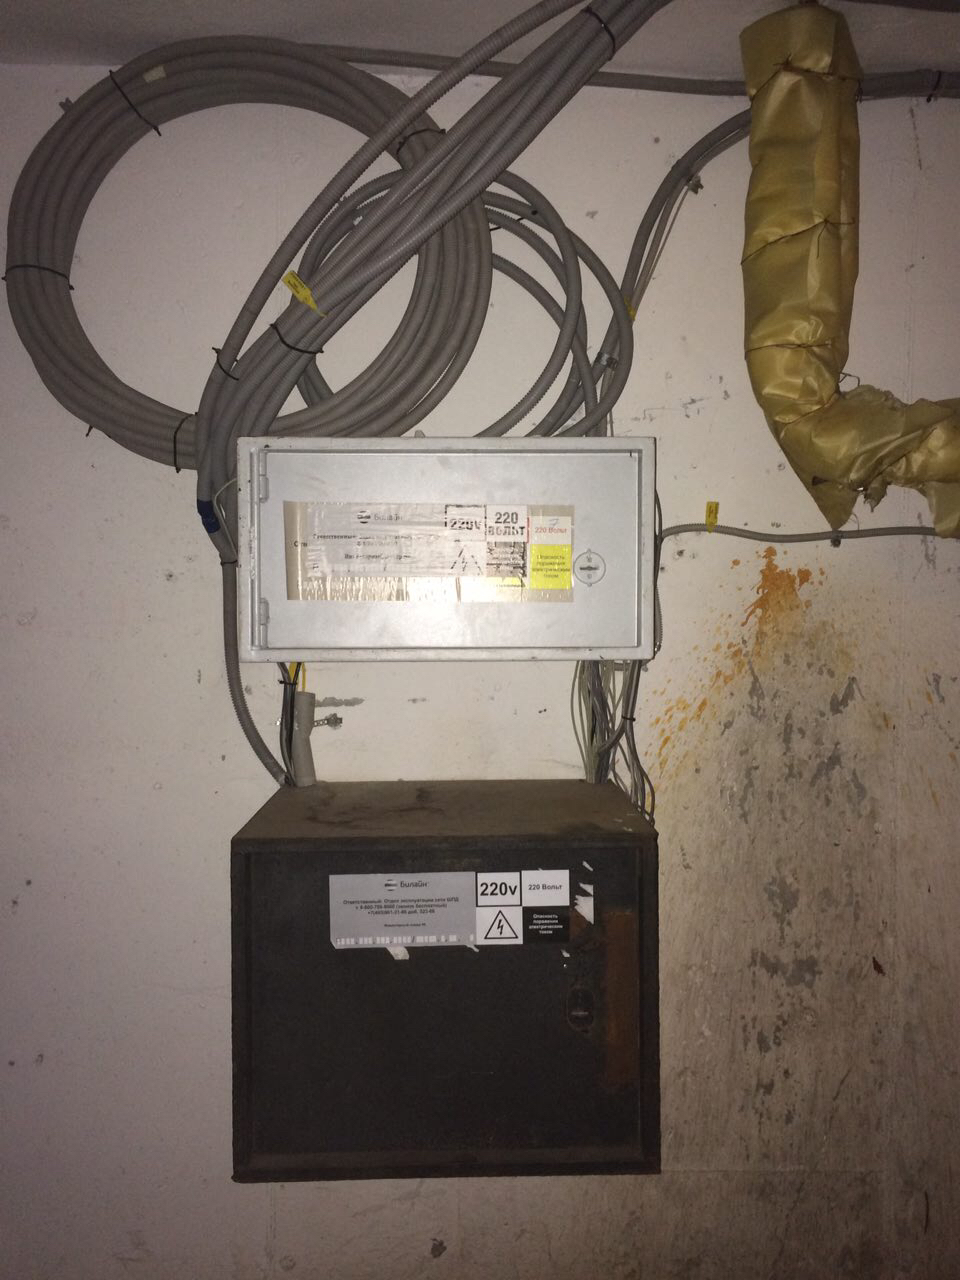shta-7m: (231, 431, 659, 663)
shta-9m: (223, 774, 665, 1184)
